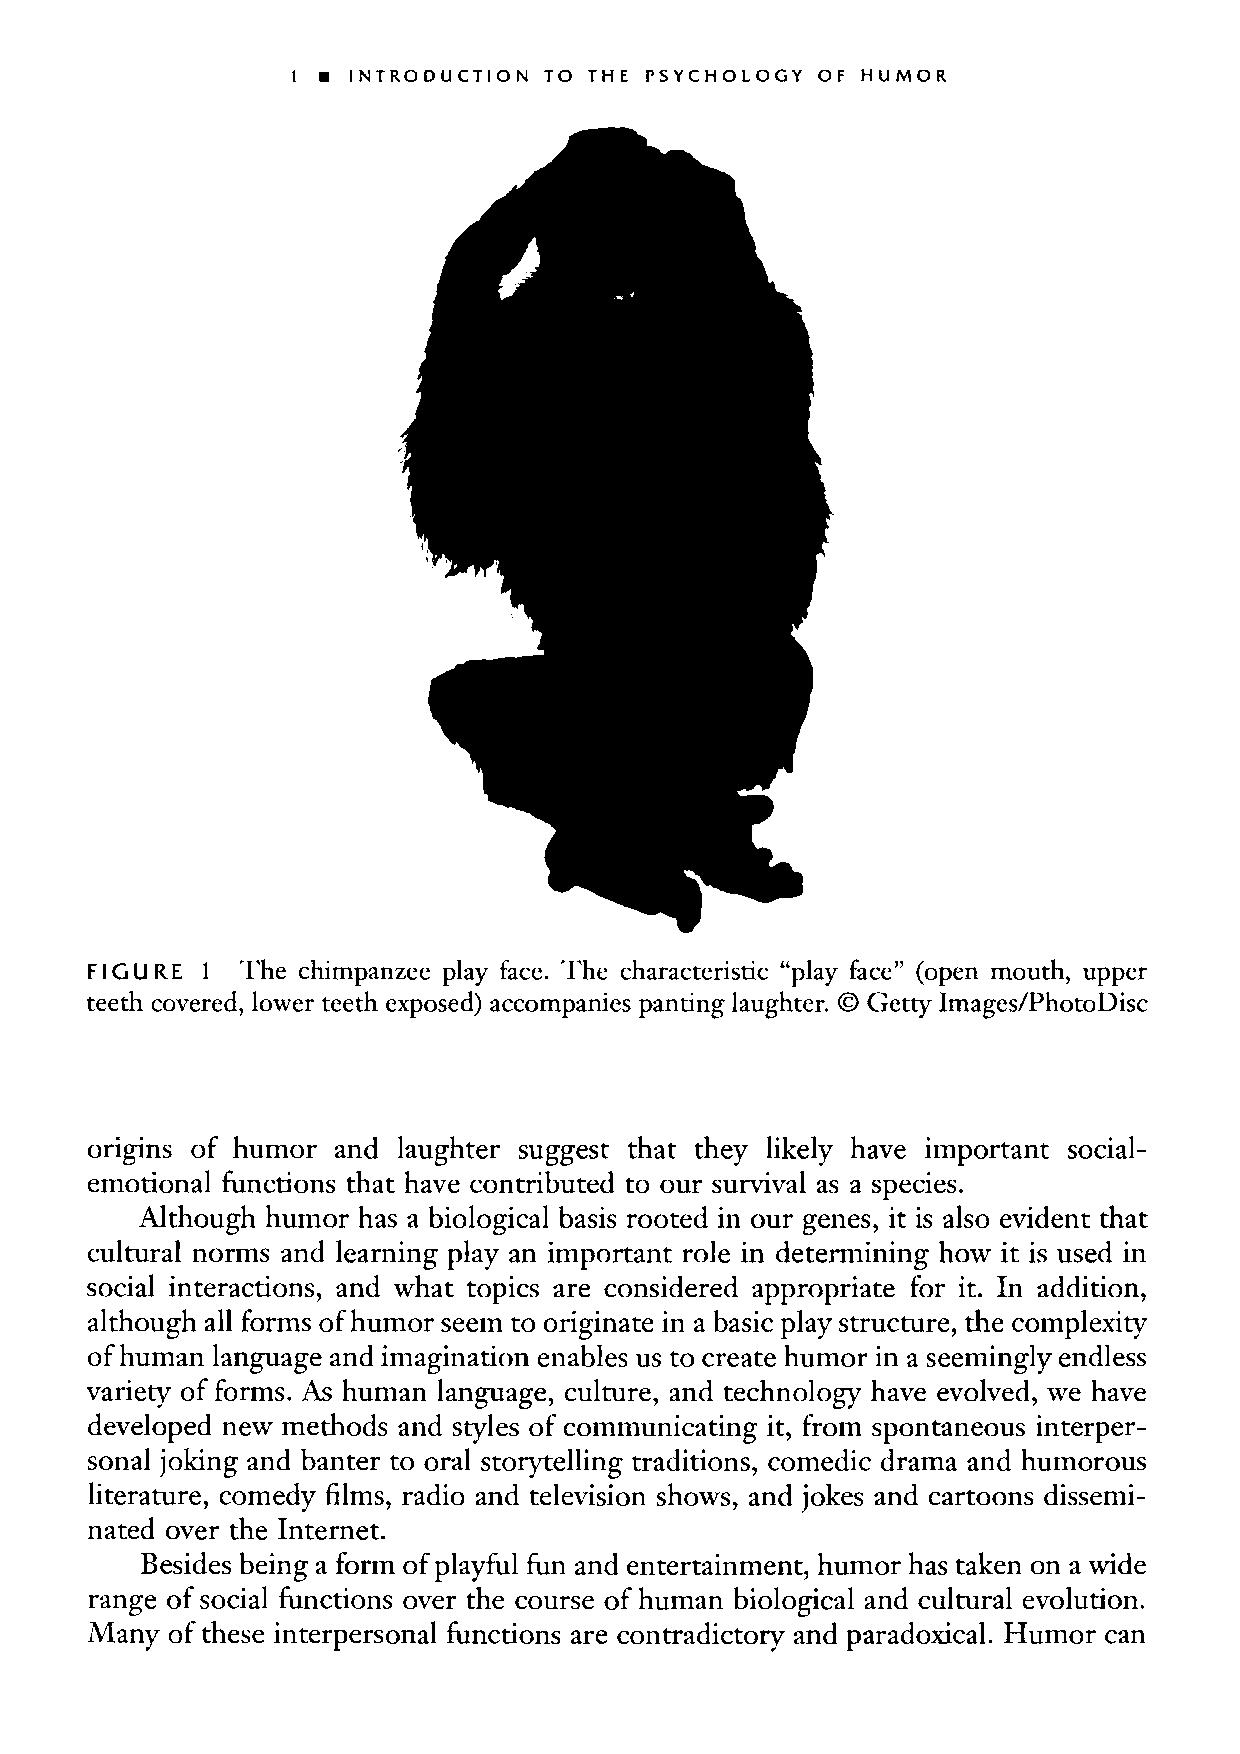content: (74, 111, 1155, 1657)
content_chapter: (340, 63, 951, 89)
content_pagenumber: (280, 64, 301, 85)
